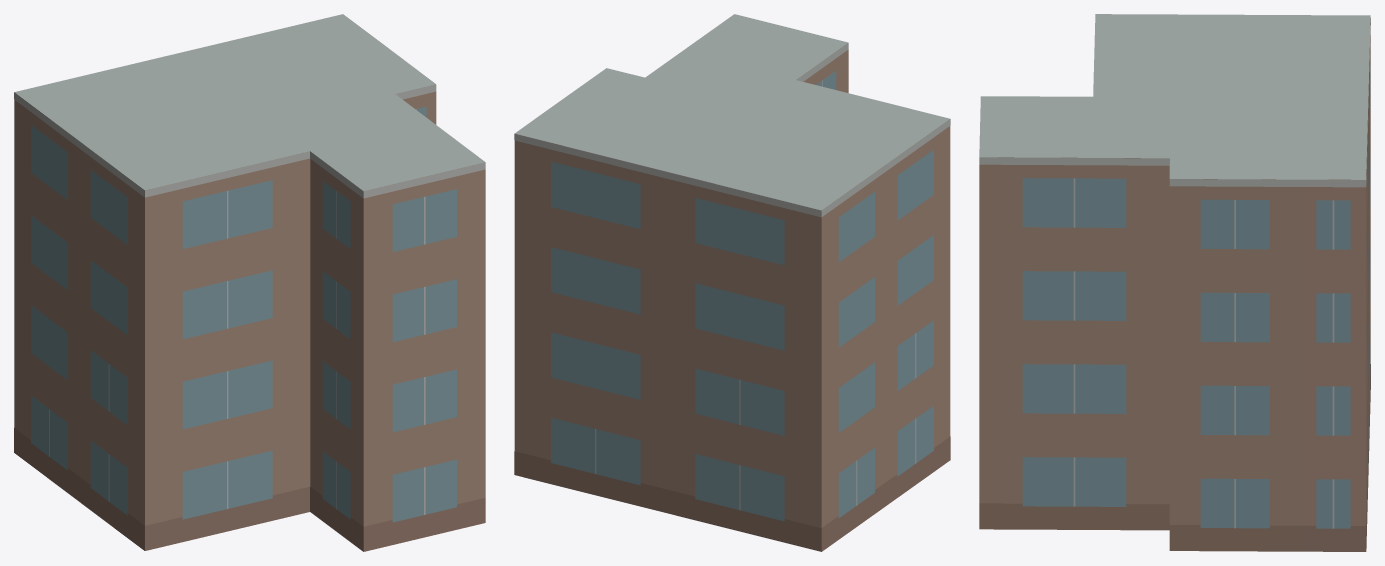
Rendered from residential-0476b7f9-3750-47b0-ac60-2aaf73b03b4c.glb.
3 renders of one model, left to right at view 1: azimuth 30°, elevation 25°; view 2: azimuth 150°, elevation 25°; view 3: azimuth 270°, elevation 25°, orthographic. The views are drawn at different scales.
Parts seen in each view (by area): view 1: residential-0476b7f9-3750-47b0-ac60-2aaf73b03b4c.tmp; view 2: residential-0476b7f9-3750-47b0-ac60-2aaf73b03b4c.tmp; view 3: residential-0476b7f9-3750-47b0-ac60-2aaf73b03b4c.tmp.
Boxes of the visible parts, x1,y1,x2,y2 form: residential-0476b7f9-3750-47b0-ac60-2aaf73b03b4c.tmp: (14,14,485,551); residential-0476b7f9-3750-47b0-ac60-2aaf73b03b4c.tmp: (514,14,950,551); residential-0476b7f9-3750-47b0-ac60-2aaf73b03b4c.tmp: (979,14,1370,551).
Size of the model in its own units: 11.67 by 12.2 by 11.64.
